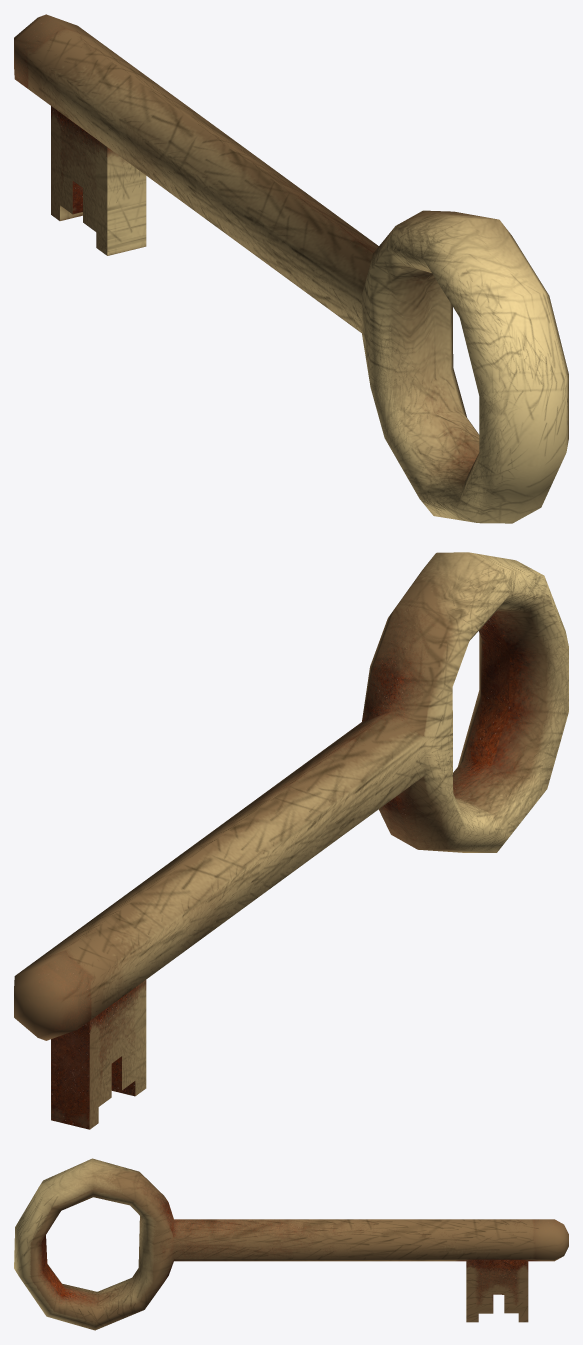
The model's file is key.fbx.
3 renders of one model, top to bottom at view 1: azimuth 30°, elevation 25°; view 2: azimuth 150°, elevation 25°; view 3: azimuth 270°, elevation 25°, orthographic. The views are drawn at different scales.
Visible parts, largest first — view 1: key; view 2: key; view 3: key.
Part boxes in pixels (x1,y1,x2,y2): key: (14,14,568,523); key: (14,552,568,1129); key: (14,1158,568,1330).
Bounding box in the file's own units: 0.012 × 0.0381 × 0.1168.
